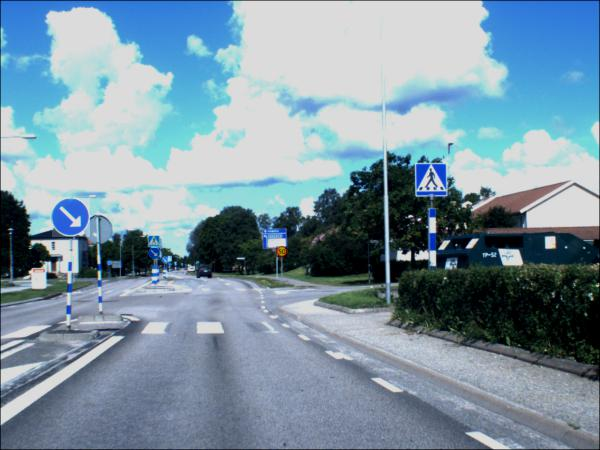50_SIGN: (277, 247, 289, 259)
PASS_RIGHT_SIDE: (53, 199, 92, 239), (149, 249, 162, 261), (163, 258, 170, 265), (168, 263, 174, 268)
PEDESTRIAN_CROSSING: (416, 164, 449, 198), (150, 237, 162, 248), (169, 257, 174, 263)
